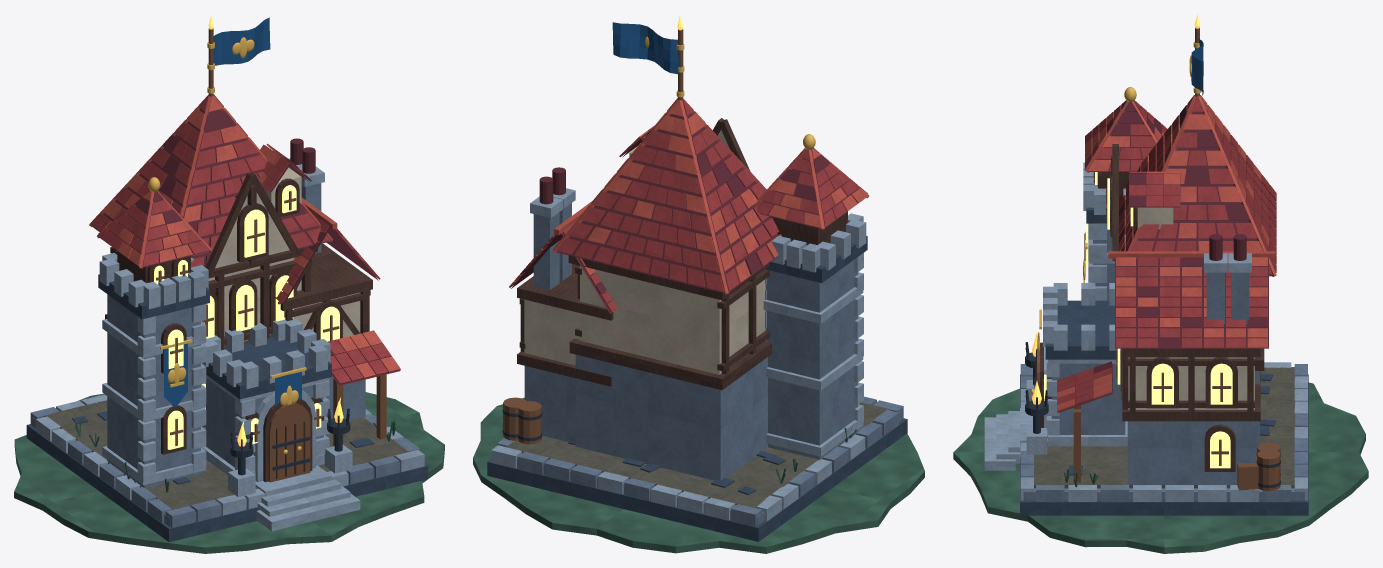
Rendered from town_hall.glb.
3 views of the same model, side by side, from view 1: azimuth 30°, elevation 25°; view 2: azimuth 150°, elevation 25°; view 3: azimuth 270°, elevation 25° (orthographic). The views are drawn at different scales.
Visible parts, largest first — view 1: BP_Roofs, BP_Foundation, BP_Tower, BP_Gatehouse, BP_EnvironmentGround, BP_Windows, BP_Timber, BP_Banners, BP_Props, BP_Annex, BP_Keep; view 2: BP_Roofs, BP_Keep, BP_Foundation, BP_Tower, BP_EnvironmentGround, BP_Timber, BP_Annex, BP_Banners, BP_Props; view 3: BP_Roofs, BP_Foundation, BP_EnvironmentGround, BP_Annex, BP_Gatehouse, BP_Timber, BP_Windows, BP_Props, BP_Tower, BP_Banners, BP_Keep.
Boxes of the visible parts, x1,y1,x2,y2 form: BP_Roofs: [89, 94, 400, 385]; BP_Foundation: [26, 394, 428, 542]; BP_Tower: [98, 251, 209, 488]; BP_Gatehouse: [202, 319, 331, 482]; BP_EnvironmentGround: [14, 392, 444, 553]; BP_Windows: [147, 178, 342, 454]; BP_Timber: [105, 172, 372, 349]; BP_Banners: [160, 17, 306, 407]; BP_Props: [148, 138, 386, 497]; BP_Annex: [288, 158, 365, 420]; BP_Keep: [203, 167, 301, 429]; BP_Roofs: [509, 98, 869, 313]; BP_Keep: [575, 129, 767, 480]; BP_Foundation: [487, 396, 907, 541]; BP_Tower: [763, 211, 867, 459]; BP_EnvironmentGround: [473, 397, 924, 553]; BP_Timber: [517, 118, 771, 390]; BP_Annex: [524, 188, 579, 442]; BP_Banners: [612, 22, 684, 100]; BP_Props: [502, 134, 815, 444]; BP_Roofs: [1057, 95, 1276, 412]; BP_Foundation: [984, 362, 1308, 515]; BP_EnvironmentGround: [953, 382, 1368, 553]; BP_Annex: [1127, 253, 1255, 484]; BP_Gatehouse: [1034, 283, 1127, 446]; BP_Timber: [1111, 144, 1264, 421]; BP_Windows: [1042, 172, 1237, 471]; BP_Props: [1025, 87, 1280, 491]; BP_Tower: [1083, 162, 1129, 300]; BP_Banners: [1037, 27, 1203, 353]; BP_Keep: [1137, 207, 1259, 455].
Bounding box in the file's own units: 6.12 × 6.68 × 5.64.
Materials: 18 (10 with a texture image).
